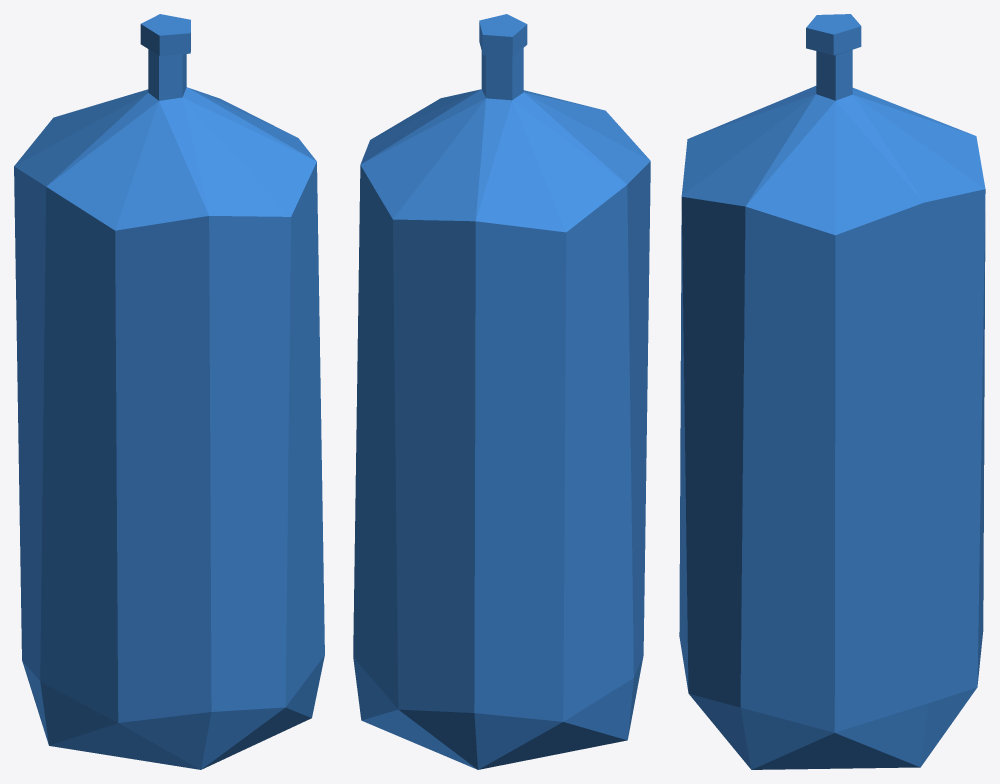
Rendered from bottle2.obj.
3 renders of one model, left to right at view 1: azimuth 30°, elevation 25°; view 2: azimuth 150°, elevation 25°; view 3: azimuth 270°, elevation 25°, orthographic.
Visible parts, largest first — view 1: Icosphere.002; view 2: Icosphere.002; view 3: Icosphere.002.
Part boxes in pixels (bbox=[...]): Icosphere.002: bbox=[14, 14, 324, 769]; Icosphere.002: bbox=[353, 14, 650, 769]; Icosphere.002: bbox=[679, 14, 985, 769].
Size of the model in its own units: 0.1765 by 0.444 by 0.177.
